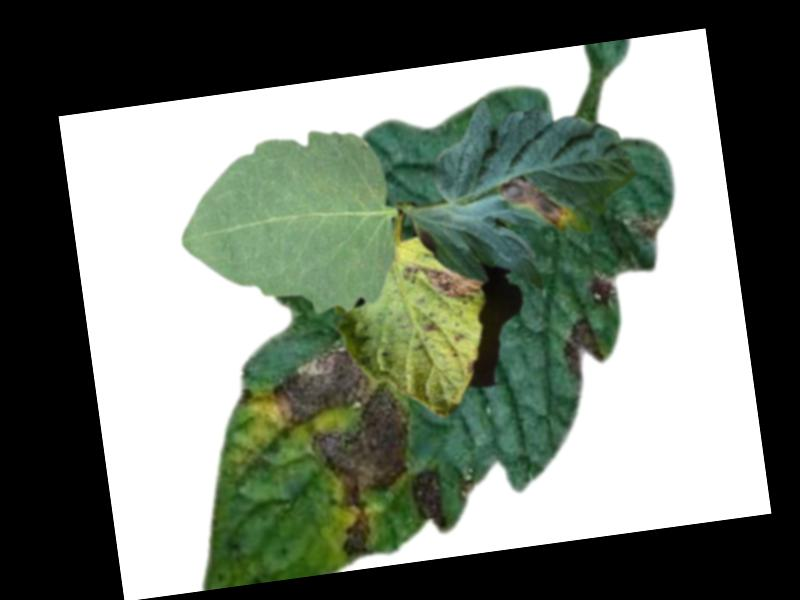Early_blight: (263, 340, 426, 571), (496, 171, 571, 236), (397, 255, 485, 310), (557, 313, 606, 382), (408, 465, 447, 524), (588, 274, 618, 304), (419, 321, 433, 338)
healthy: (170, 121, 405, 331)
